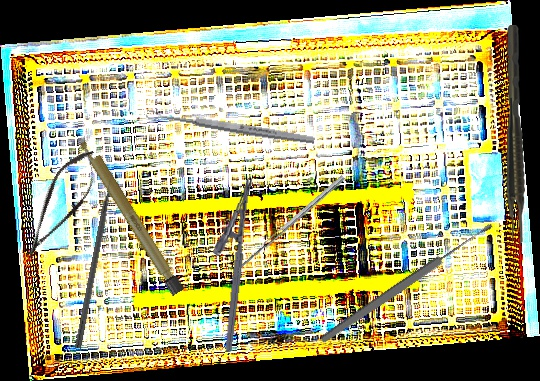Hook Surgical: (74, 170, 118, 350)
Micro Scissor: (11, 141, 109, 269)
Needle Holder: (201, 174, 254, 353)
Scalpel Handle: (75, 132, 186, 297)
Spatula Surgical: (231, 174, 350, 280)
Surgical Spoon: (318, 220, 496, 346), (145, 108, 316, 146)
Tissue Forceps: (507, 25, 525, 245)
